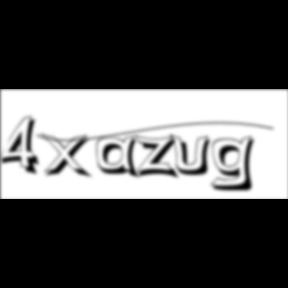4: (0, 115, 46, 179)
a: (97, 135, 145, 182)
g: (210, 134, 262, 194)
u: (170, 132, 218, 178)
x: (42, 132, 96, 181)
z: (135, 134, 184, 182)
